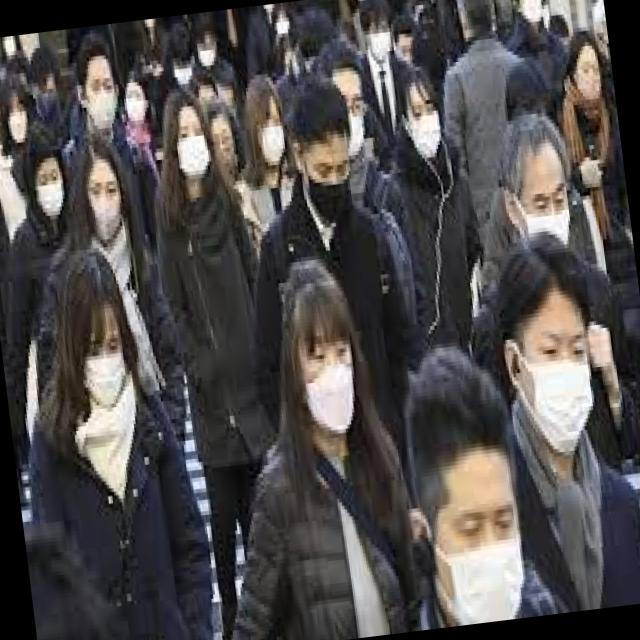Jacket: (13, 354, 217, 640), (18, 198, 192, 511), (211, 407, 429, 640), (152, 156, 292, 502), (471, 225, 640, 502), (369, 128, 498, 392), (0, 191, 103, 470), (498, 422, 640, 618), (74, 127, 158, 284)
